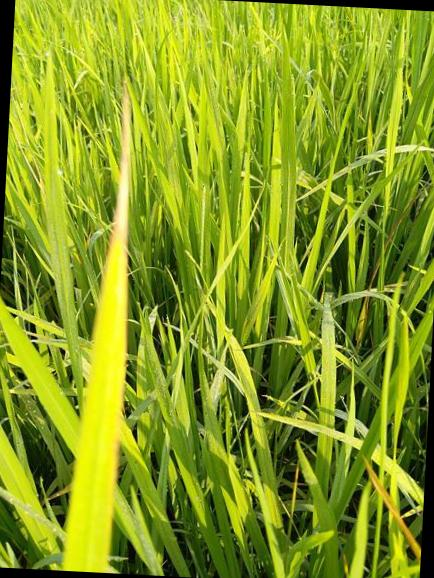Leaf Streak: (93, 92, 131, 355)
